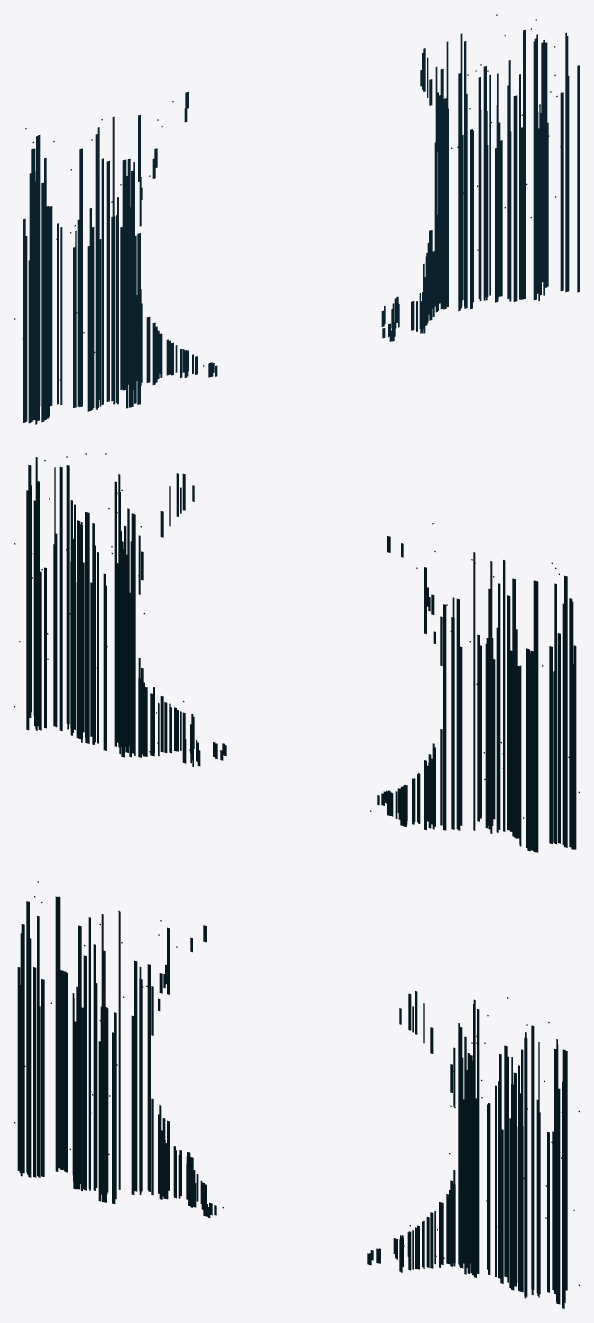
The model's file is portal_wall.glb.
3 views of the same model, one above another, from view 1: azimuth 30°, elevation 25°; view 2: azimuth 150°, elevation 25°; view 3: azimuth 330°, elevation 25° (orthographic).
Parts seen in each view (by area): view 1: wall_curtain, wall_accents; view 2: wall_curtain, wall_accents; view 3: wall_curtain, wall_accents.
Boxes of the visible parts, x1,y1,x2,y2 form: wall_curtain: [23, 30, 579, 424]; wall_accents: [97, 116, 118, 404]; wall_curtain: [26, 457, 576, 852]; wall_accents: [473, 552, 492, 833]; wall_curtain: [17, 896, 567, 1308]; wall_accents: [101, 911, 120, 1189].
Bounding box in the file's own units: 5.98 × 2.97 × 0.5607.
